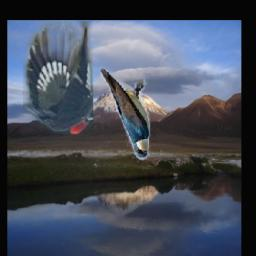Swallow: (98, 66, 151, 162)
Woodpecker: (24, 21, 94, 134)
